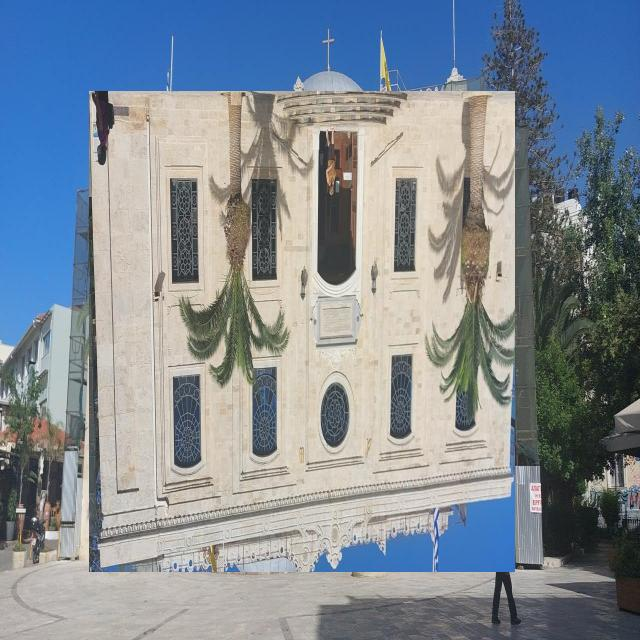Agios Titos: (90, 92, 516, 573)
